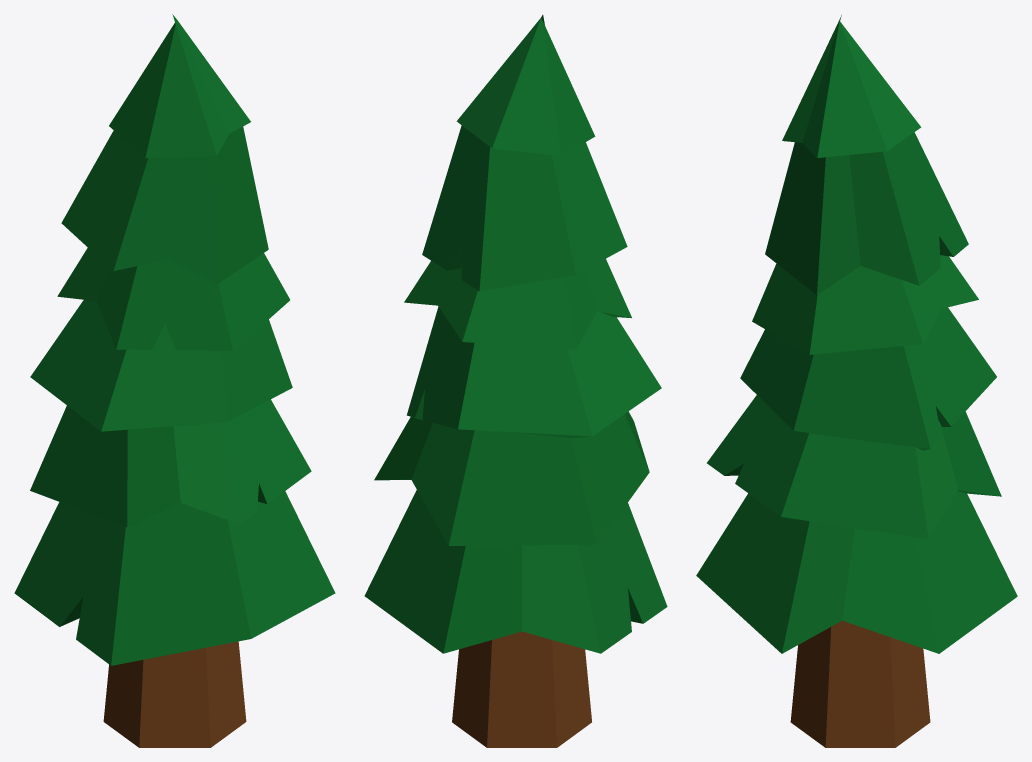
Rendered from Tree3.fbx.
The picture shows the model from 3 angles, left to right: view 1: azimuth 30°, elevation 25°; view 2: azimuth 150°, elevation 25°; view 3: azimuth 270°, elevation 25°; orthographic projection. The views are drawn at different scales.
Visible parts, largest first — view 1: Cylinder.001, Cylinder.002, Cylinder.005, Cylinder.003, Cylinder.004, TreeBase, Cylinder.006; view 2: Cylinder.001, Cylinder.002, Cylinder.005, Cylinder.003, TreeBase, Cylinder.004, Cylinder.006; view 3: Cylinder.001, Cylinder.002, Cylinder.005, Cylinder.003, TreeBase, Cylinder.004, Cylinder.006.
Boxes of the visible parts, bbox=[...] form: Cylinder.001: bbox=[14, 491, 335, 665]; Cylinder.002: bbox=[30, 399, 311, 527]; Cylinder.005: bbox=[61, 126, 268, 284]; Cylinder.003: bbox=[30, 299, 292, 431]; Cylinder.004: bbox=[57, 248, 289, 351]; TreeBase: bbox=[103, 641, 246, 747]; Cylinder.006: bbox=[109, 14, 250, 158]; Cylinder.001: bbox=[364, 490, 667, 653]; Cylinder.002: bbox=[374, 411, 649, 545]; Cylinder.005: bbox=[422, 125, 627, 291]; Cylinder.003: bbox=[406, 306, 661, 438]; TreeBase: bbox=[452, 631, 591, 747]; Cylinder.004: bbox=[404, 259, 631, 349]; Cylinder.006: bbox=[456, 14, 595, 155]; Cylinder.001: bbox=[696, 491, 1017, 653]; Cylinder.002: bbox=[707, 395, 1001, 539]; Cylinder.005: bbox=[765, 132, 968, 294]; Cylinder.003: bbox=[740, 307, 996, 450]; TreeBase: bbox=[790, 620, 930, 747]; Cylinder.004: bbox=[752, 255, 978, 354]; Cylinder.006: bbox=[782, 15, 921, 157].
Size of the model in its own units: 390 by 1109 by 460.
